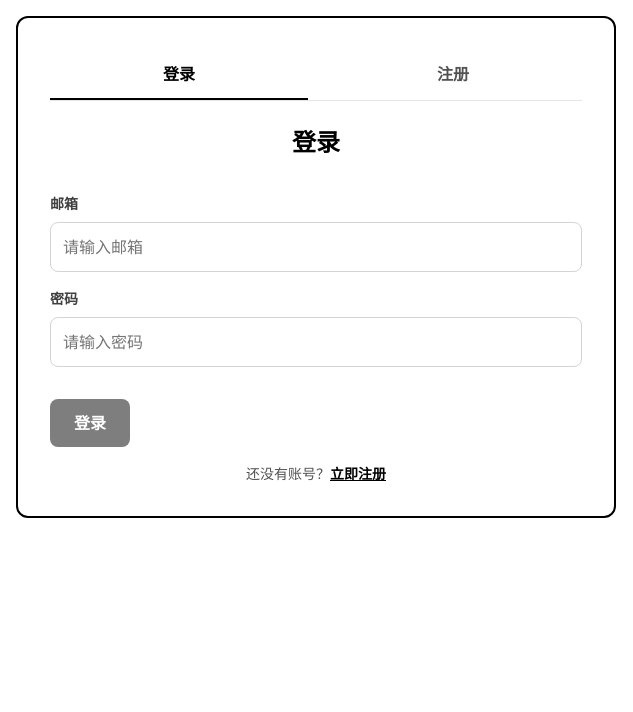
ProfileView › 注册功能 › 应该显示注册表单
The image size is (633, 712).
Click the button with class "auth-tab" showing "注册".
click(453, 75)  # box [324,50,582,100]
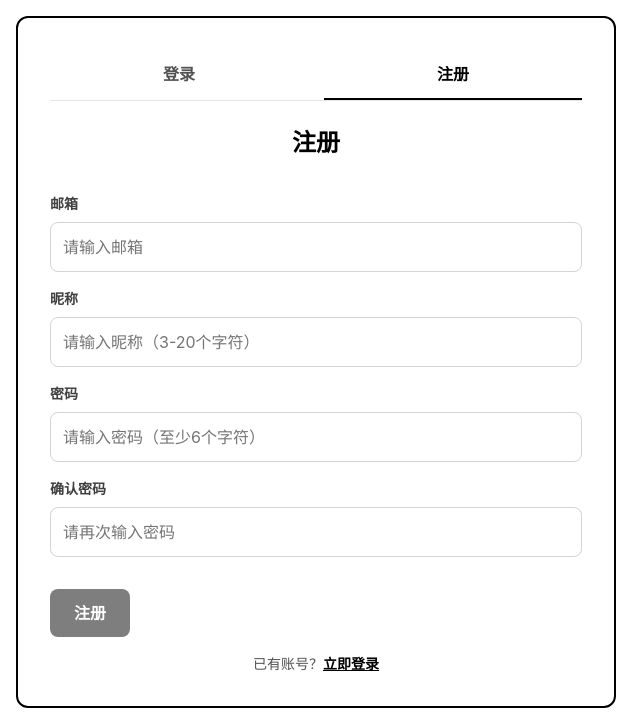
Now the heading with class "auth-title" reads "注册", box [292,128,340,157]
